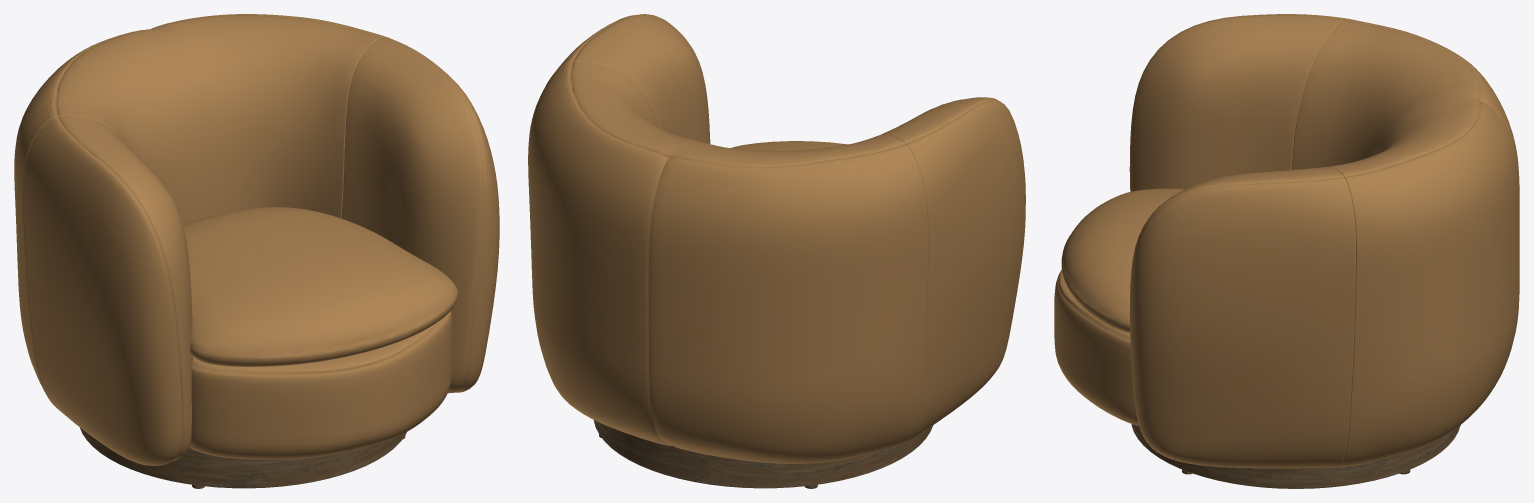
Rendered from sofa.glb.
The picture shows the model from 3 angles, left to right: view 1: azimuth 30°, elevation 25°; view 2: azimuth 150°, elevation 25°; view 3: azimuth 270°, elevation 25°; orthographic projection. The views are drawn at different scales.
Parts seen in each view (by area): view 1: id_feature-DXL0nd_variant-J6DMxX; view 2: id_feature-DXL0nd_variant-J6DMxX; view 3: id_feature-DXL0nd_variant-J6DMxX.
Boxes of the visible parts, x1=… form: id_feature-DXL0nd_variant-J6DMxX: x1=14, y1=14, x2=499, y2=488; id_feature-DXL0nd_variant-J6DMxX: x1=528, y1=14, x2=1025, y2=488; id_feature-DXL0nd_variant-J6DMxX: x1=1054, y1=14, x2=1519, y2=488.
Size of the model in its own units: 0.8605 by 0.69 by 0.8902.
1 material, 1 textured.
